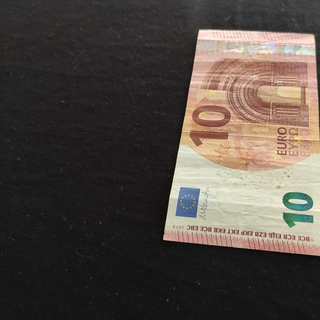10EUROFront: (162, 28, 320, 257)
